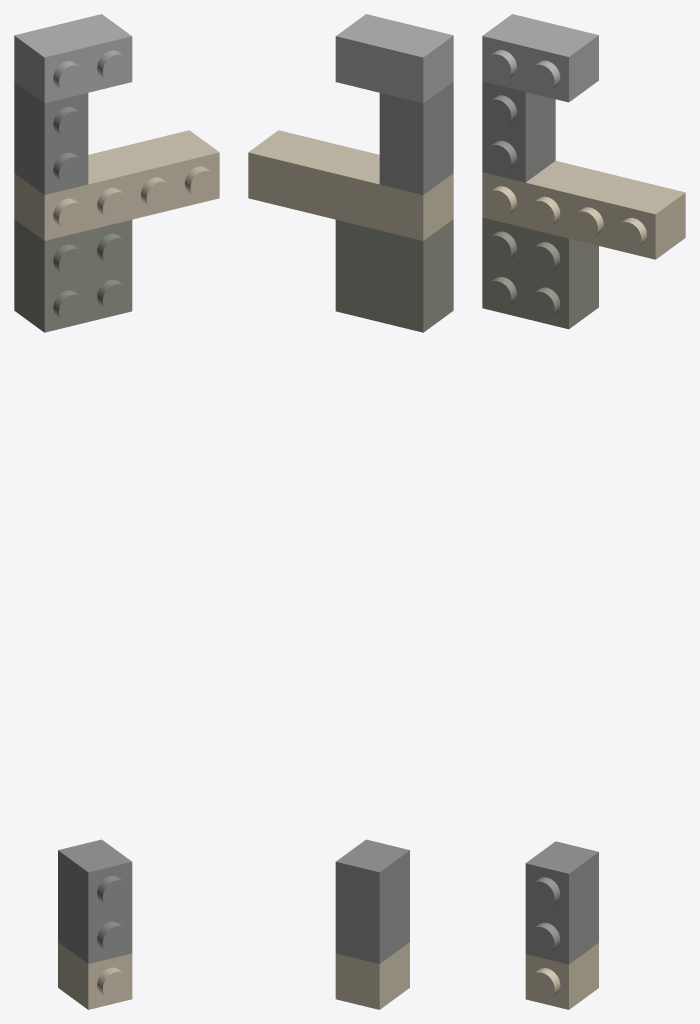
File: current.glb
3 renders of one model, left to right at view 1: azimuth 30°, elevation 25°; view 2: azimuth 150°, elevation 25°; view 3: azimuth 330°, elevation 25°, orthographic.
Visible parts, largest first — view 1: world; view 2: world; view 3: world.
Part boxes in pixels (x1=…): world: x1=14, y1=14, x2=219, y2=1009; world: x1=248, y1=14, x2=453, y2=1009; world: x1=482, y1=14, x2=685, y2=1009.
Size of the model in its own units: 32 by 168 by 11.4.
